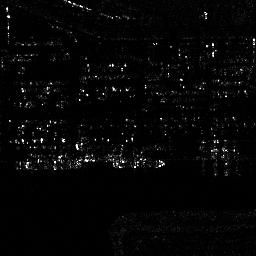ship: (17, 155, 84, 172), (112, 157, 165, 171)
